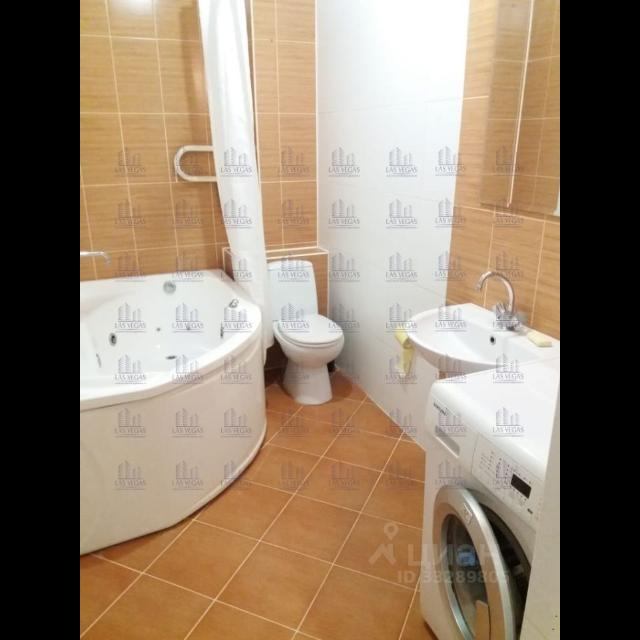Washing-Machine: (424, 356, 560, 640)
